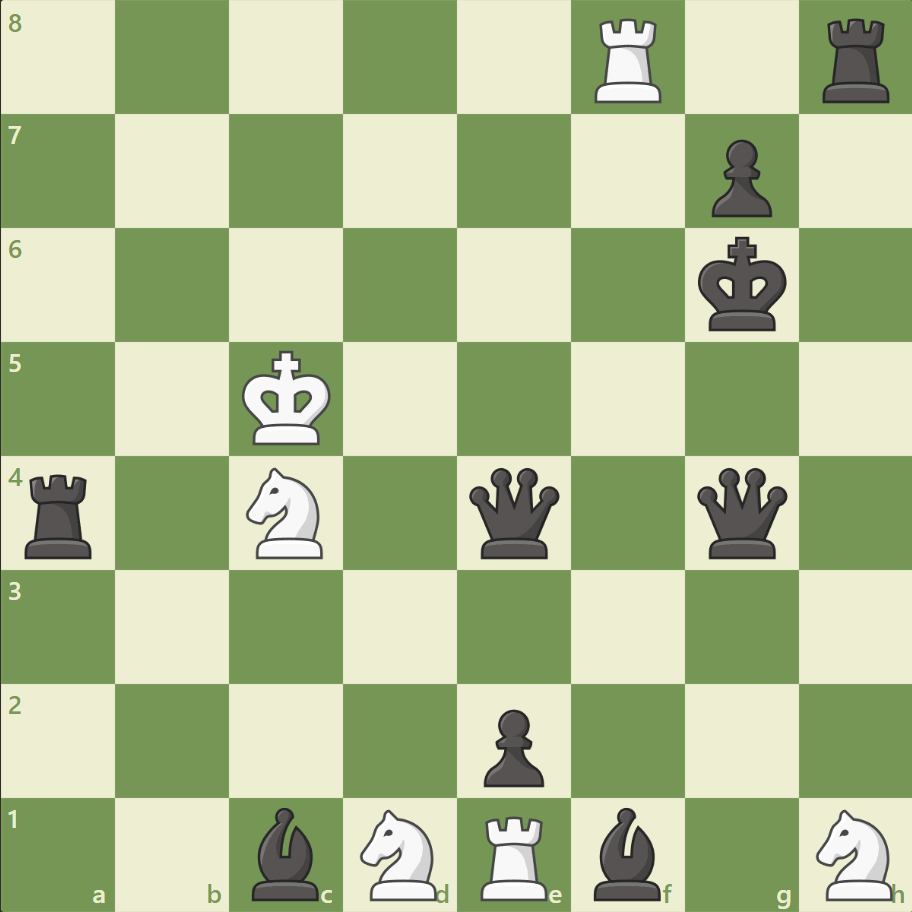K: (238, 344, 338, 452)
N: (351, 802, 449, 904), (238, 461, 335, 564), (806, 802, 903, 904)
R: (473, 806, 556, 904), (587, 12, 670, 109)
b: (244, 801, 328, 904), (585, 801, 669, 904)
k: (692, 231, 792, 339)
p: (701, 132, 776, 223), (474, 700, 549, 791)
q: (464, 463, 563, 562), (691, 463, 790, 562)
r: (814, 12, 897, 109), (19, 466, 102, 563)
